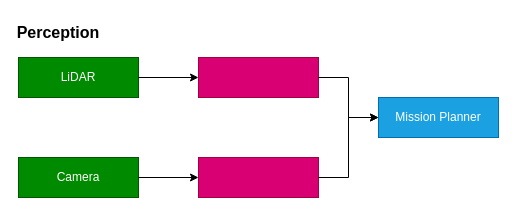
Image size: 516x215. Some labels were removed from this diagram. Here are the shapes that lost their labels. From the top down, the centre of each, then its label:
At point 258,77: "LIO-SAM".
At point 258,177: "YOLOv10".
